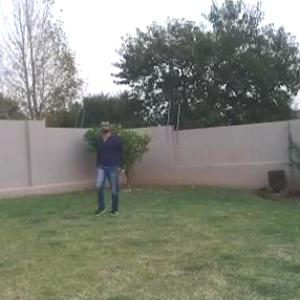follow: (91, 118, 126, 226)
